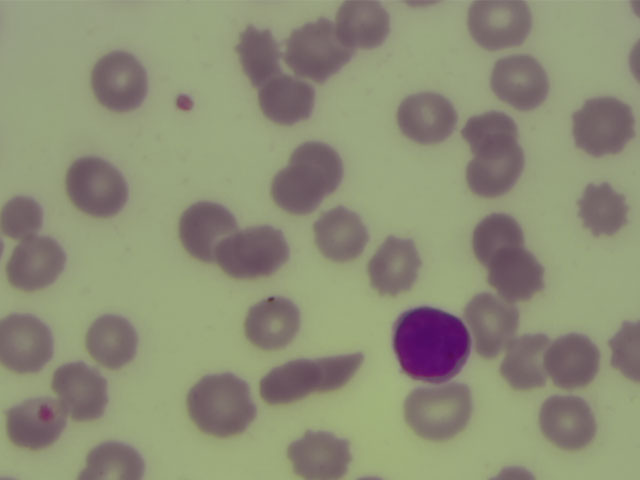Platelets: (166, 89, 200, 118), (33, 406, 59, 428)
RBC: (257, 355, 319, 407), (1, 309, 51, 372), (467, 1, 530, 50), (291, 427, 348, 480), (466, 294, 513, 358), (489, 248, 546, 300), (547, 334, 604, 386), (542, 396, 599, 448), (410, 387, 467, 439), (572, 185, 629, 237), (467, 142, 524, 194), (575, 100, 632, 152), (369, 239, 426, 291), (313, 206, 370, 258), (192, 376, 249, 428), (245, 297, 302, 349), (52, 363, 109, 415), (84, 314, 141, 366), (490, 59, 547, 111), (268, 161, 325, 213), (398, 92, 455, 144), (286, 25, 343, 77), (259, 73, 316, 125), (227, 224, 284, 276), (179, 203, 236, 255), (5, 238, 62, 290), (65, 161, 122, 213), (90, 55, 147, 107), (502, 334, 554, 389), (233, 24, 278, 83), (472, 209, 522, 260), (336, 1, 389, 47), (462, 110, 520, 151), (312, 348, 367, 391), (86, 440, 143, 480), (1, 190, 44, 243), (610, 314, 640, 385), (290, 137, 343, 176)
WBC: (386, 306, 476, 386)
